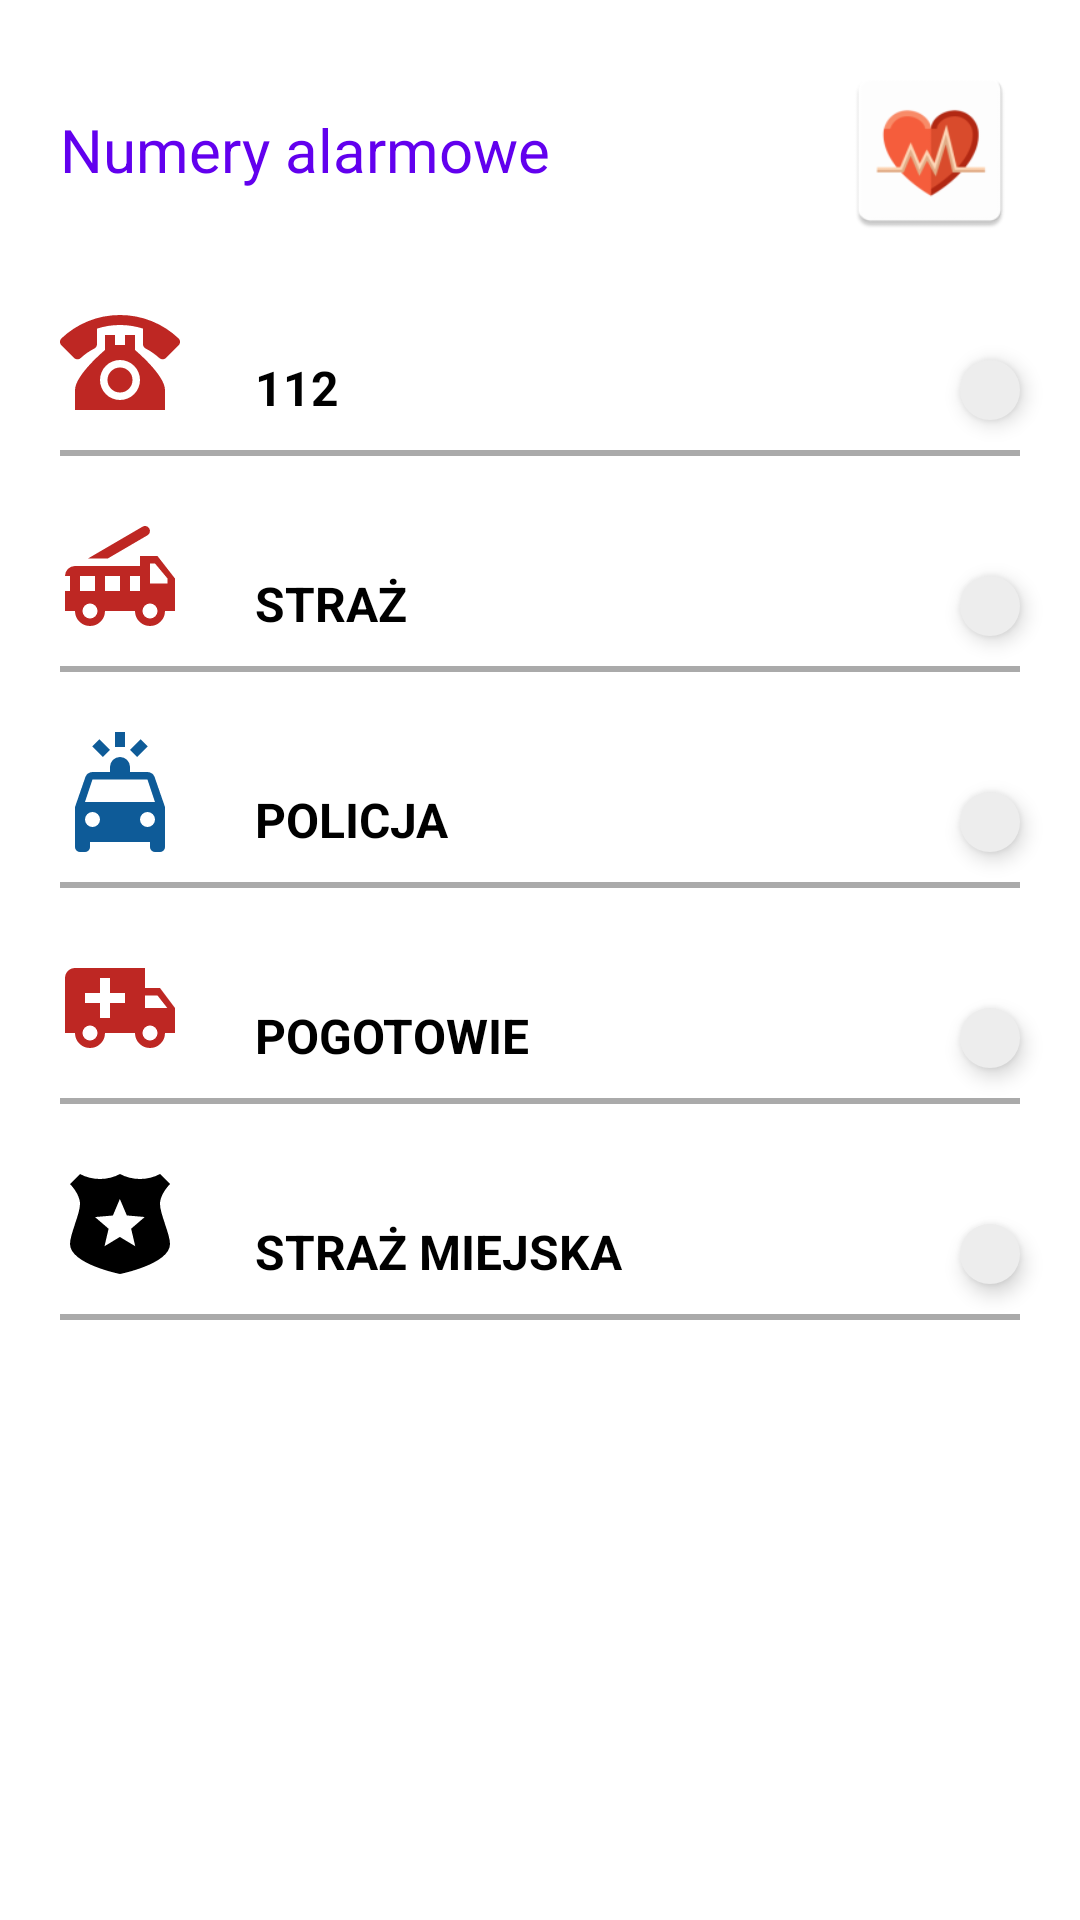

Screen size 1080px x 1920px. Icon name, then its center in pixels as (x=x, y=y):
ambulance: (x=120, y=1008)
car emergency: (x=120, y=792)
fire truck: (x=120, y=576)
phone classic: (x=120, y=362)
police badge: (x=120, y=1224)
